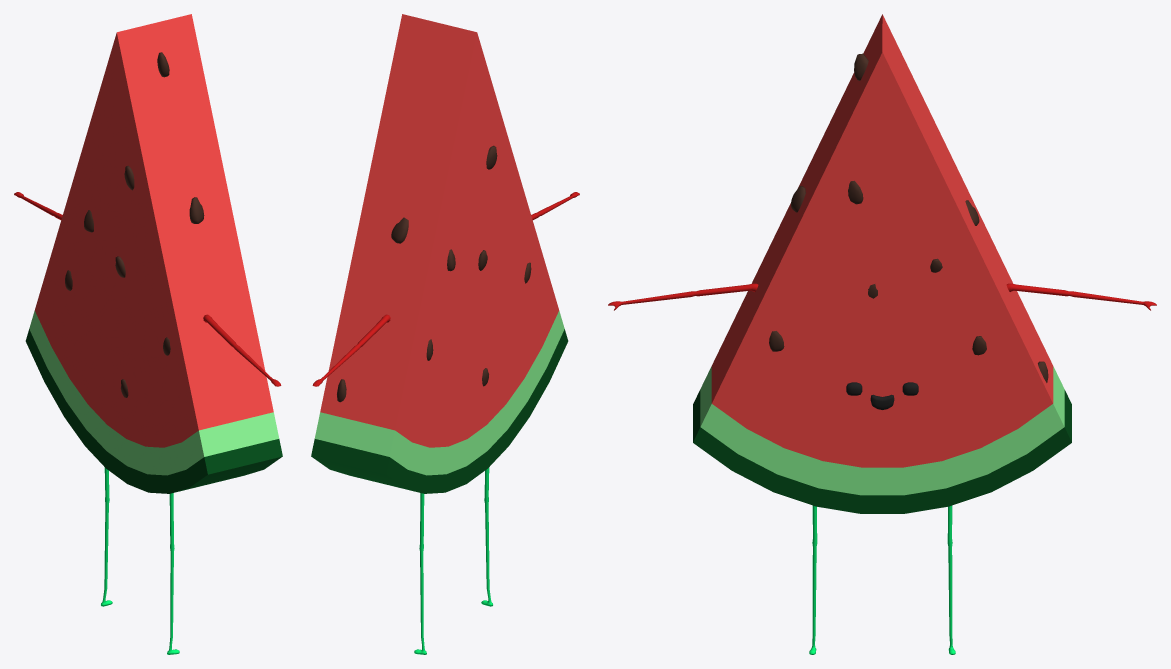
The model's file is Watermelon.glb.
3 views of the same model, side by side, from view 1: azimuth 30°, elevation 25°; view 2: azimuth 150°, elevation 25°; view 3: azimuth 270°, elevation 25° (orthographic). The views are drawn at different scales.
Parts seen in each view (by area): view 1: mesh_char_89; view 2: mesh_char_89; view 3: mesh_char_89.
Boxes of the visible parts, bbox=[...] form: mesh_char_89: bbox=[14, 14, 282, 654]; mesh_char_89: bbox=[311, 14, 579, 654]; mesh_char_89: bbox=[608, 14, 1156, 654].
Size of the model in its own units: 1.01 by 6.85 by 5.44.
Materials: 1 (1 with a texture image).
